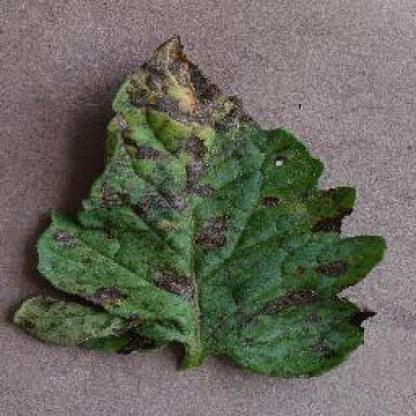Tomato_Blight: (15, 37, 384, 370)
